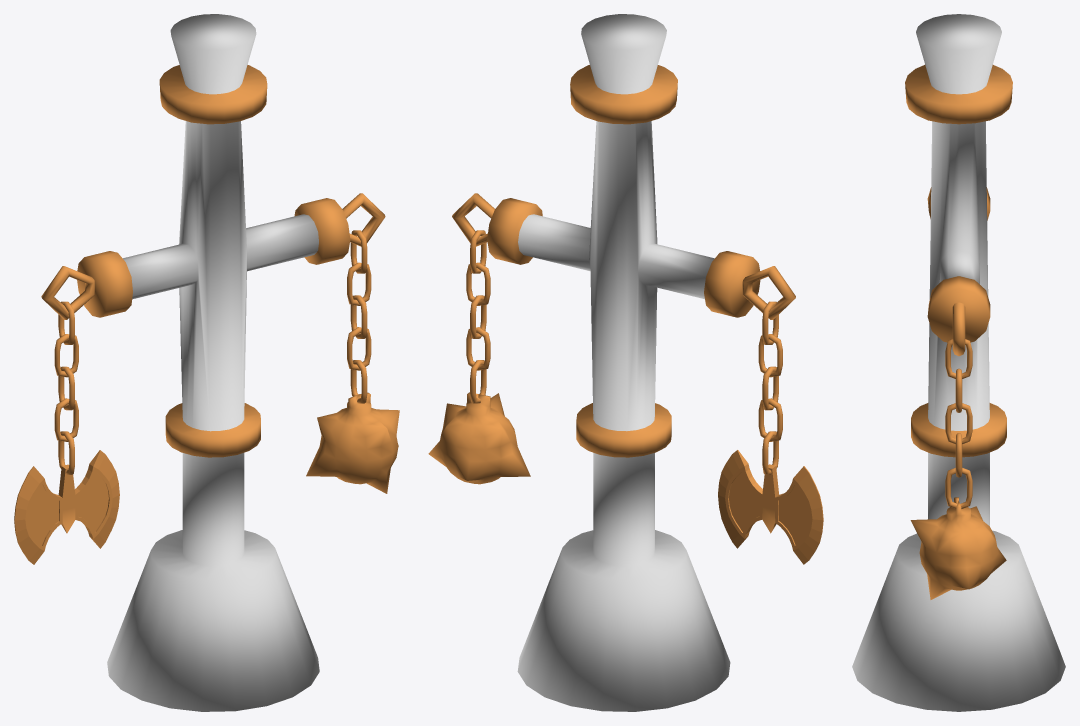
The model's file is TrainingDummy2.fbx.
3 renders of one model, left to right at view 1: azimuth 30°, elevation 25°; view 2: azimuth 150°, elevation 25°; view 3: azimuth 270°, elevation 25°, orthographic.
Visible parts, largest first — view 1: Cylinder.009; view 2: Cylinder.009; view 3: Cylinder.009.
Boxes of the visible parts, x1,y1,x2,y2 form: Cylinder.009: [14, 14, 399, 711]; Cylinder.009: [428, 14, 823, 711]; Cylinder.009: [852, 14, 1065, 711].
Bounding box in the file's own units: 152 × 236 × 72.14.
